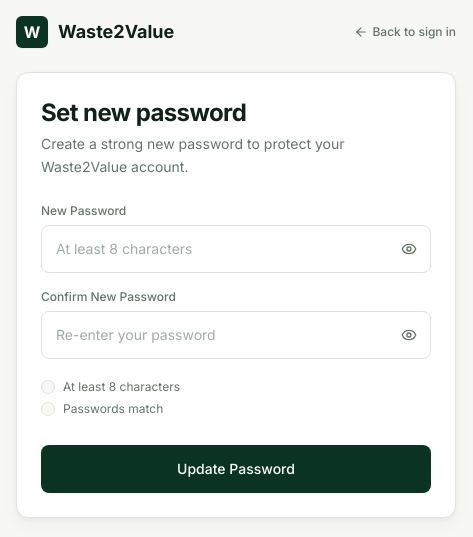
Scenario: Authentication Flows & Security UX › ResetPasswordPage Behavior & Password Recovery Flow › submits valid password, prevents duplicate submission, and displays success state
Type "NewSecurePassword123!" into the password field labelled "New Password" at (236, 249), box [41,225,431,273]
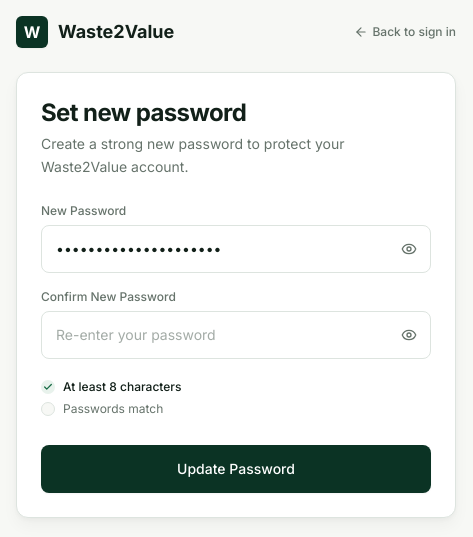
Type "NewSecurePassword123!" into the password field labelled "Confirm New Password" at (236, 335), box [41,311,431,359]
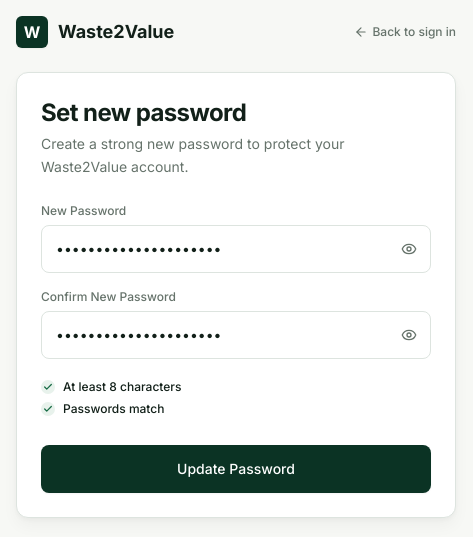
Click the button "Update Password" at (236, 469), box [41,445,431,493]
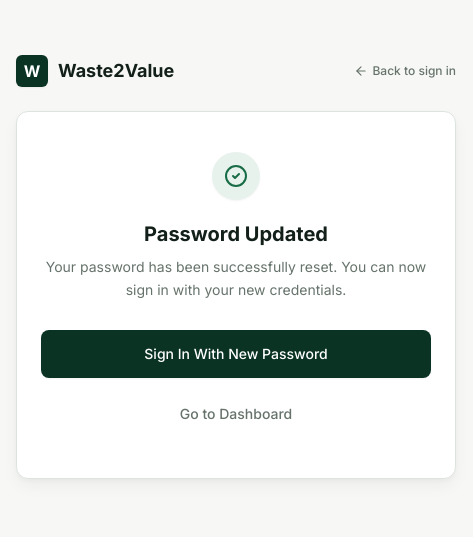
Result: the heading "Password Updated" is shown at [144,222,328,246]
Result: the button "Sign In With New Password" is shown at [41,330,431,378]
Result: the button "Go to Dashboard" is shown at [41,390,431,438]
